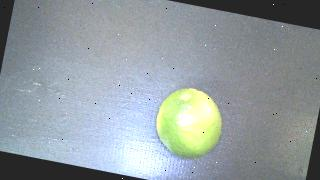EXPORTACION: (150, 83, 228, 164)
